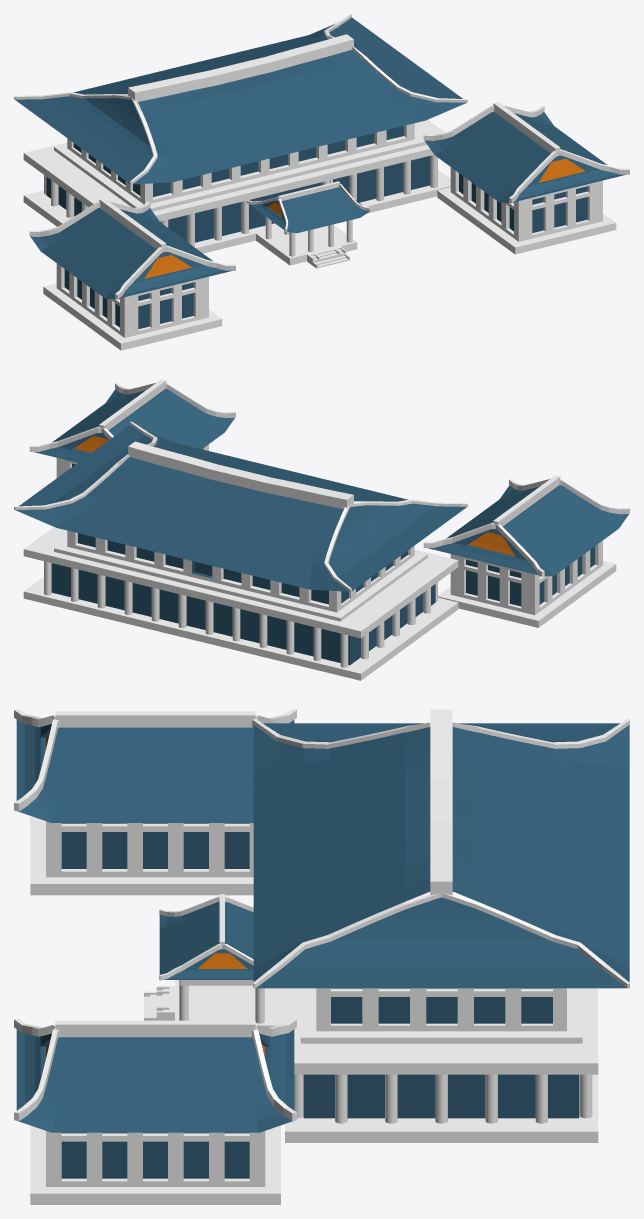
File: Cheongwadae.glb
The picture shows the model from 3 angles, top to bottom: view 1: azimuth 30°, elevation 25°; view 2: azimuth 150°, elevation 25°; view 3: azimuth 270°, elevation 25°; orthographic projection. The views are drawn at different scales.
Parts seen in each view (by area): view 1: Cube.035, Cube.042, Cube.023, Cube.030, Cube.027, Cube.036, Cube.032, Cube.047, Cube.031, Cube.026, Cube.033, Cube.019 (+5 smaller); view 2: Cube.035, Cube.042, Cube.023, Cube.030, Cube.027, Cube.026, Cube.036, Cube.032, Cube.031, Cube.033, Cylinder.001, Cube.039 (+2 smaller); view 3: Cube.035, Cube.023, Cube.042, Cube.030, Cube.027, Cube.026, Cube.047, Cube.032, Cube.031, Cube.033, Cube.036, Cube.019 (+6 smaller).
Part boxes in pixels (x1,y1,x2,y2): Cube.035: (15, 17, 466, 184); Cube.042: (29, 198, 235, 350); Cube.023: (423, 102, 629, 254); Cube.030: (23, 119, 444, 221); Cube.027: (46, 156, 430, 242); Cube.036: (128, 34, 353, 101); Cube.032: (67, 123, 414, 204); Cube.047: (246, 180, 371, 233); Cube.031: (54, 131, 426, 211); Cube.026: (23, 169, 450, 253); Cube.033: (73, 126, 403, 196); Cube.019: (256, 225, 357, 265); Cube.035: (15, 425, 466, 591); Cube.042: (423, 475, 629, 627); Cube.023: (29, 379, 235, 477); Cube.030: (23, 527, 458, 638); Cube.027: (51, 563, 435, 665); Cube.026: (23, 577, 458, 680); Cube.036: (128, 441, 353, 508); Cube.032: (67, 530, 414, 612); Cube.031: (54, 539, 427, 621); Cube.033: (78, 533, 407, 604); Cylinder.001: (361, 587, 430, 659); Cube.039: (14, 454, 129, 509); Cube.035: (253, 723, 629, 988); Cube.023: (14, 1018, 296, 1204); Cube.042: (14, 709, 296, 895); Cube.030: (285, 988, 598, 1074); Cube.027: (303, 1074, 579, 1118); Cube.026: (285, 1074, 598, 1142); Cube.047: (159, 894, 253, 980); Cube.032: (316, 988, 566, 1031); Cube.031: (300, 988, 582, 1043); Cube.033: (331, 997, 552, 1023); Cube.036: (430, 709, 452, 897); Cube.019: (175, 980, 284, 1027).
Bounding box in the file's own units: 15.26 × 3.78 × 9.83.
